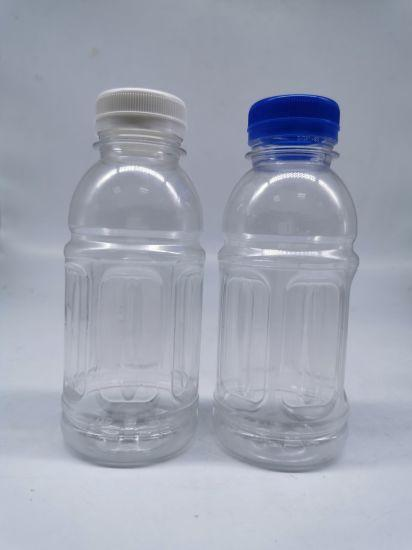bottle: (45, 72, 206, 473), (217, 71, 369, 473)
